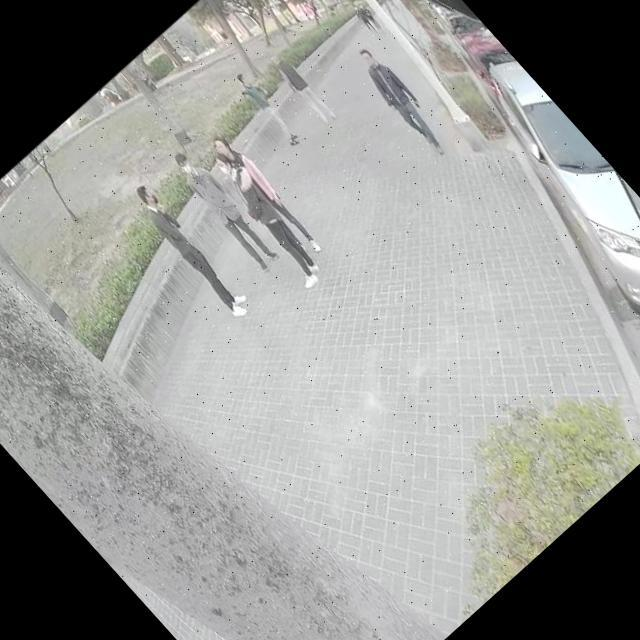person: (194, 140, 339, 296), (196, 129, 330, 273), (125, 179, 253, 318), (164, 144, 285, 274), (346, 41, 458, 160), (222, 60, 310, 154), (260, 44, 344, 134)
